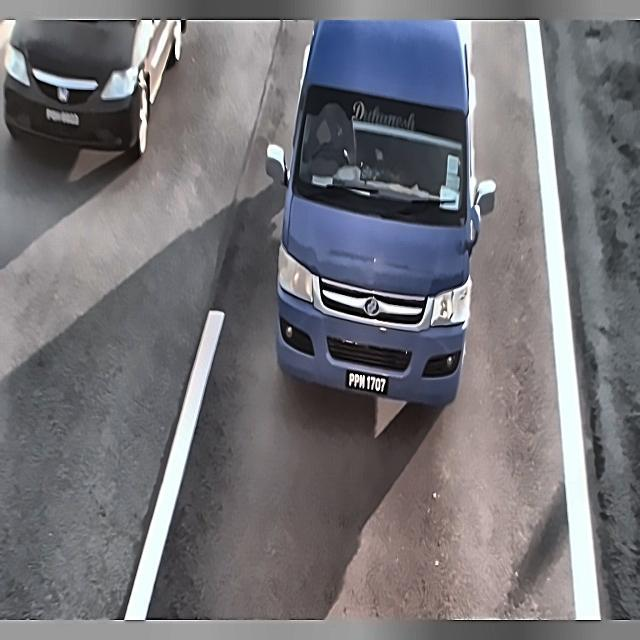car: (344, 365, 392, 398), (40, 102, 88, 132)
